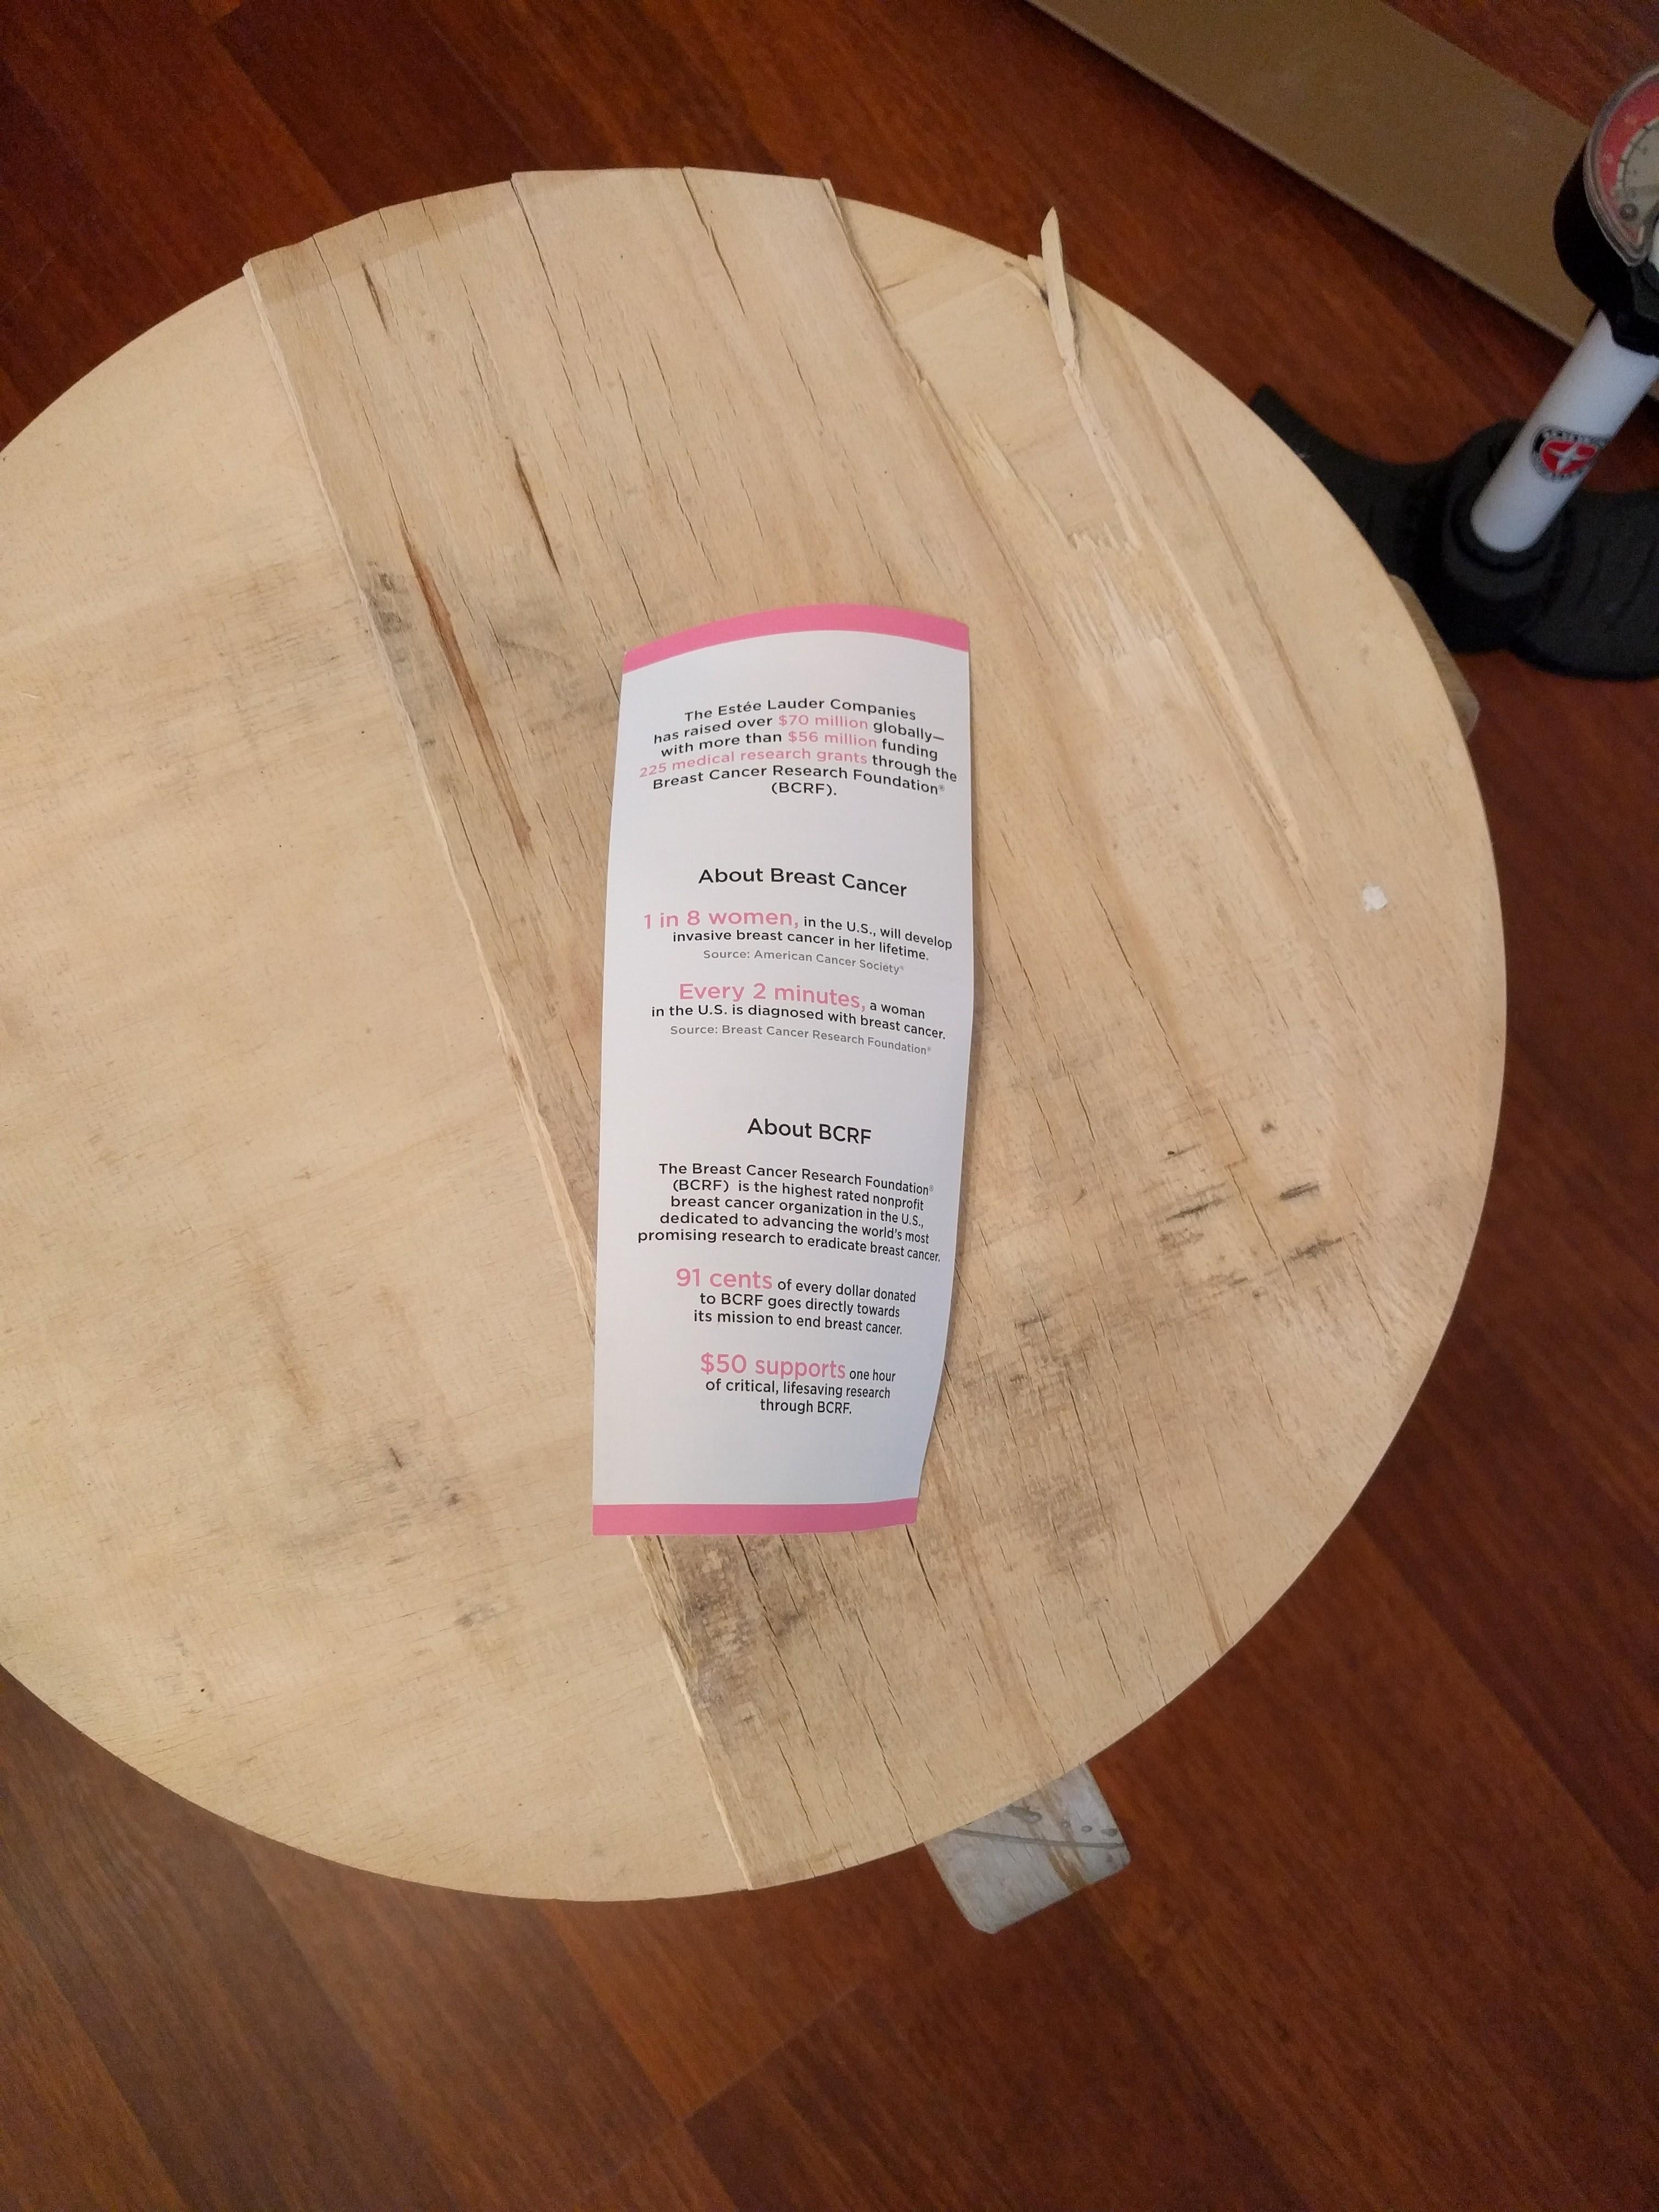paper: (512, 583, 1114, 1714)
